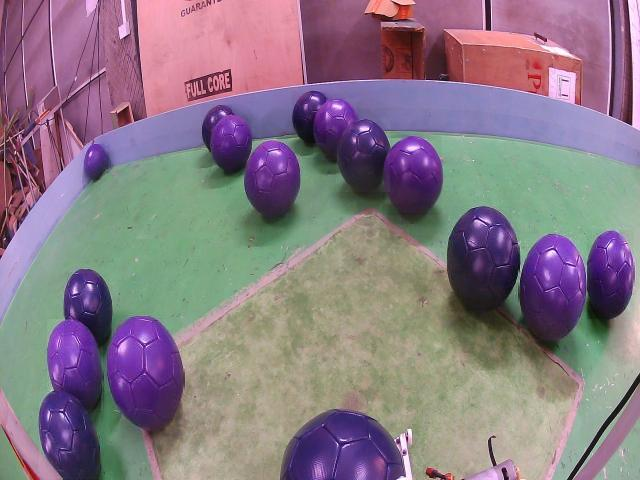jambhalya: (107, 316, 184, 429), (520, 235, 586, 341), (47, 320, 103, 411), (383, 135, 442, 215), (587, 230, 634, 319), (245, 140, 300, 216), (313, 100, 357, 160), (210, 115, 252, 173), (85, 144, 107, 178)
kaalyya: (280, 410, 405, 480), (447, 206, 519, 311), (39, 392, 101, 479), (336, 118, 390, 192), (64, 270, 112, 346), (293, 92, 326, 143), (202, 105, 232, 151)
